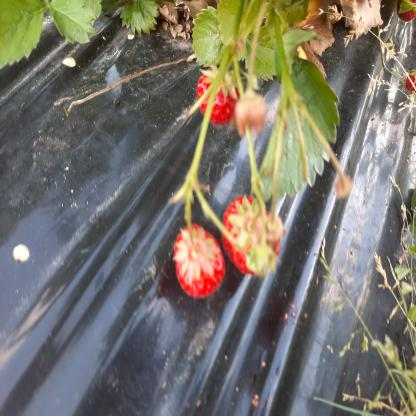ripe: (218, 195, 282, 277), (175, 229, 225, 294), (199, 67, 238, 122)
